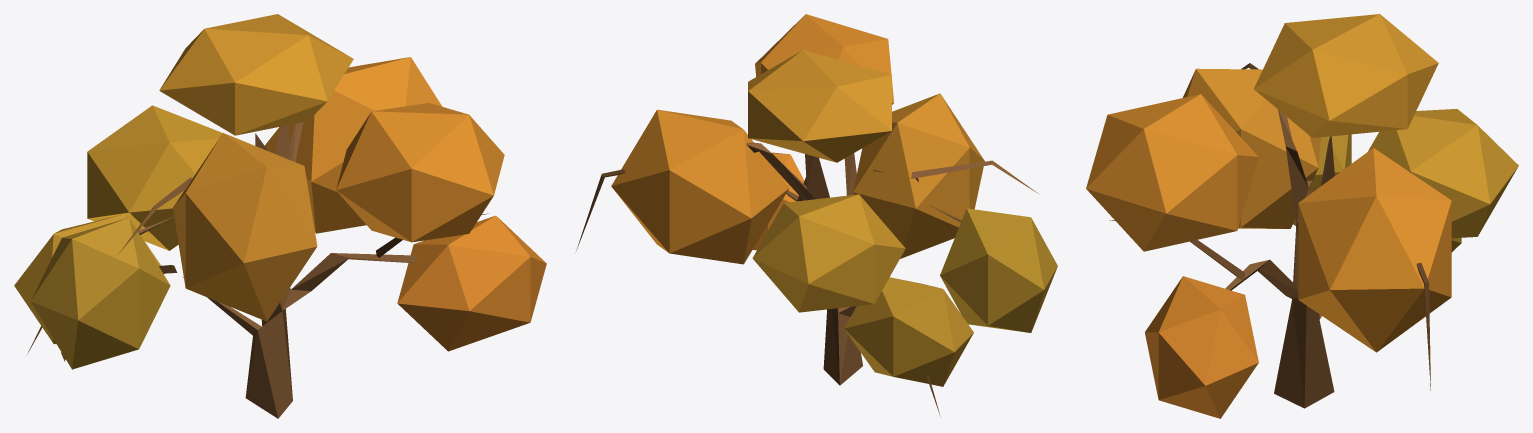
File: elm_2_autumn_far.glb
3 views of the same model, side by side, from view 1: azimuth 30°, elevation 25°; view 2: azimuth 150°, elevation 25°; view 3: azimuth 270°, elevation 25° (orthographic). The views are drawn at different scales.
Parts seen in each view (by area): view 1: elm_2_autumn_far; view 2: elm_2_autumn_far; view 3: elm_2_autumn_far.
Part boxes in pixels (left/top/right/bottom): elm_2_autumn_far: left=14, top=14, right=546, bottom=418; elm_2_autumn_far: left=576, top=14, right=1057, bottom=416; elm_2_autumn_far: left=1086, top=14, right=1518, bottom=418.
Size of the model in its own units: 8.31 by 5.99 by 6.38.
